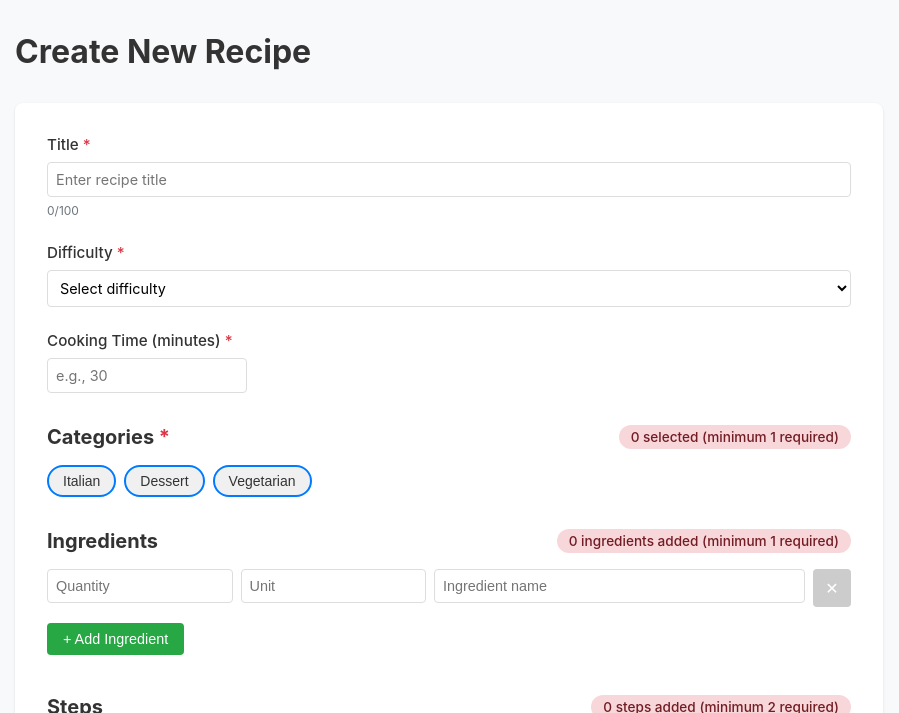
Test: CreateRecipeView › Category Section › validates at least one category is required on submit
Type "Test Recipe" into the field labelled "Title *" at (449, 180), box left=47, top=162, right=851, bottom=197
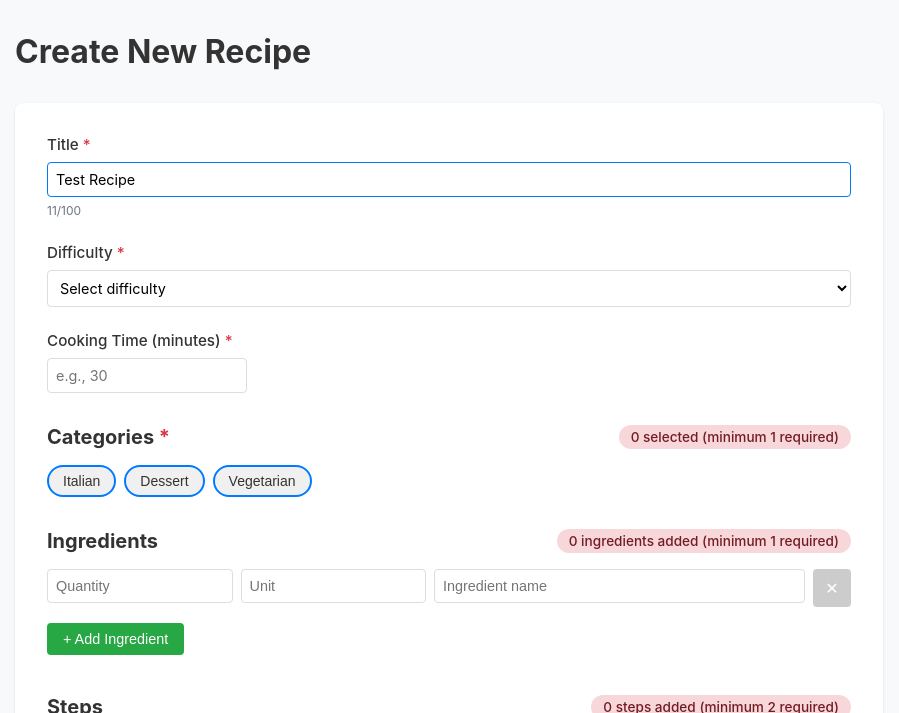
Select "Easy" in the dropdown labelled "Difficulty *" at (449, 288), box left=47, top=270, right=851, bottom=307
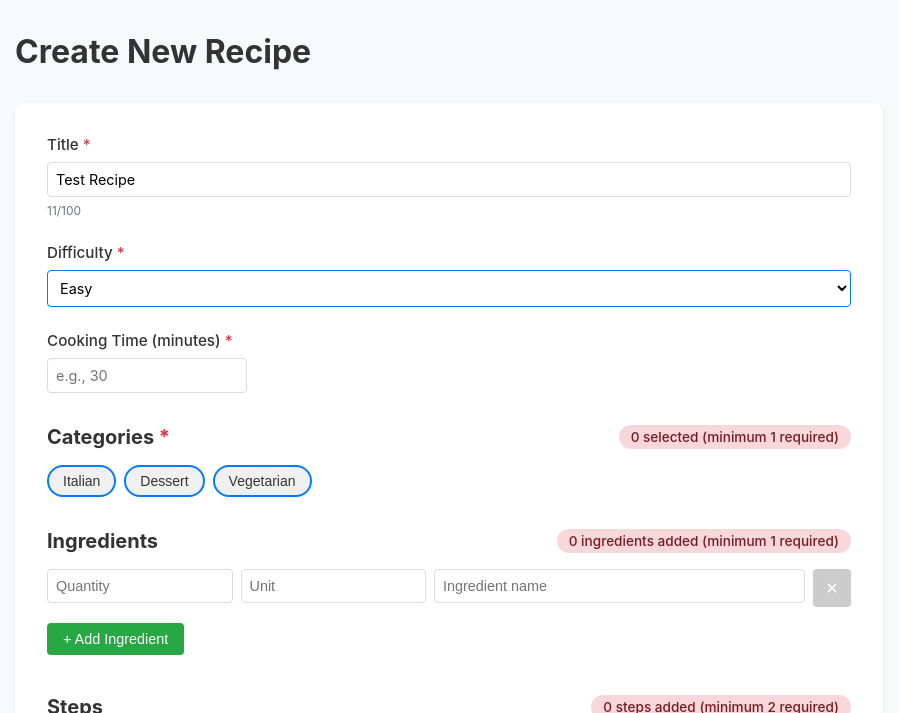
Type "30" into the number field labelled "Cooking Time (minutes) *" at (147, 376), box left=47, top=358, right=247, bottom=393
(page scrolled)
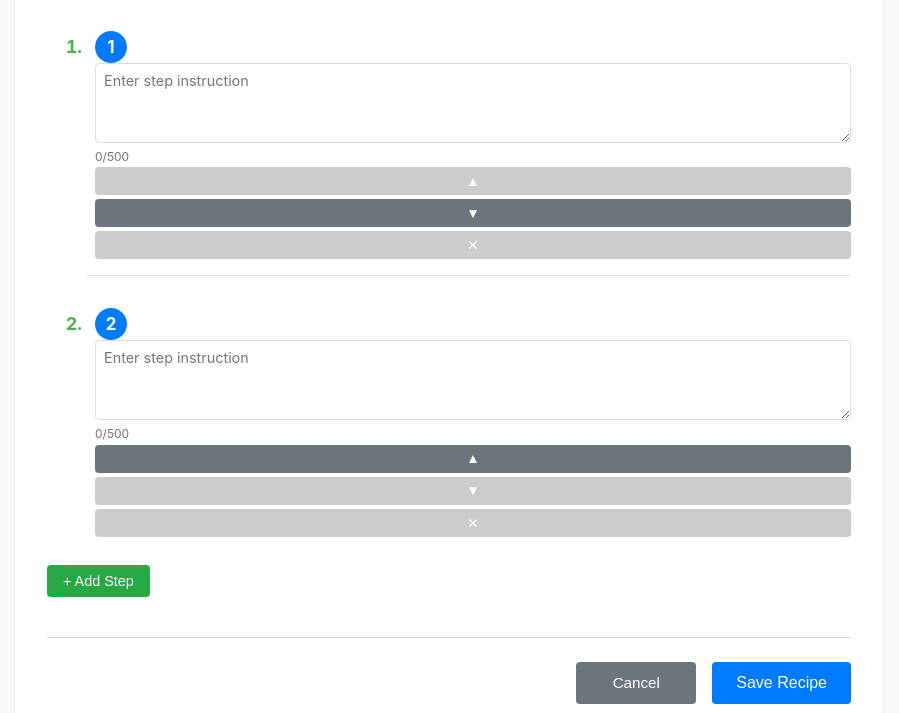
Click the button "Save Recipe" at (782, 683), box left=712, top=662, right=851, bottom=704
(page scrolled)
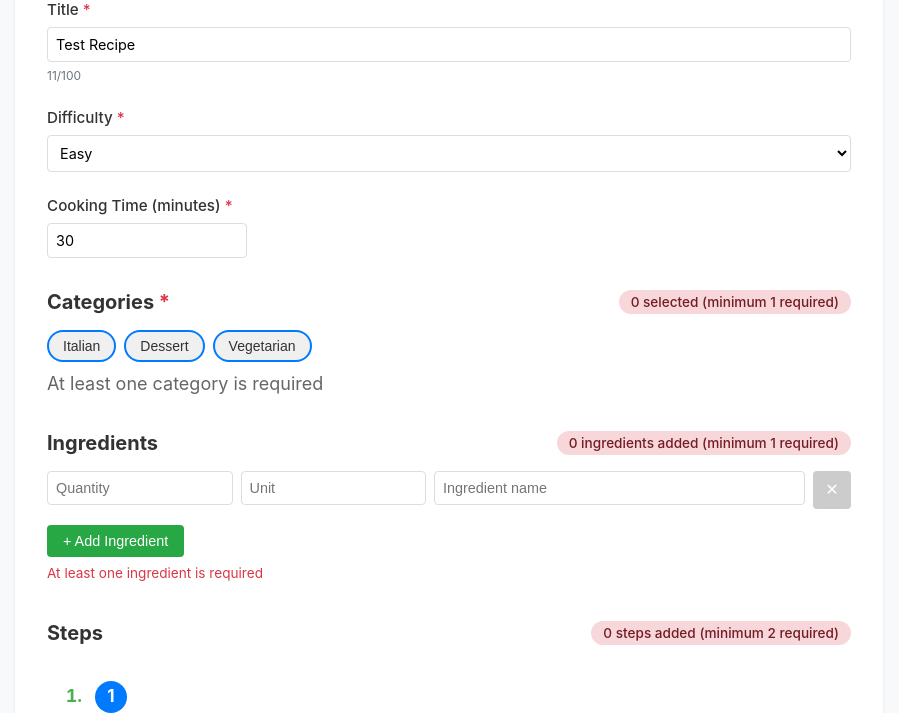
Result: the text "At least one category is required" is shown at left=47, top=373, right=323, bottom=394
